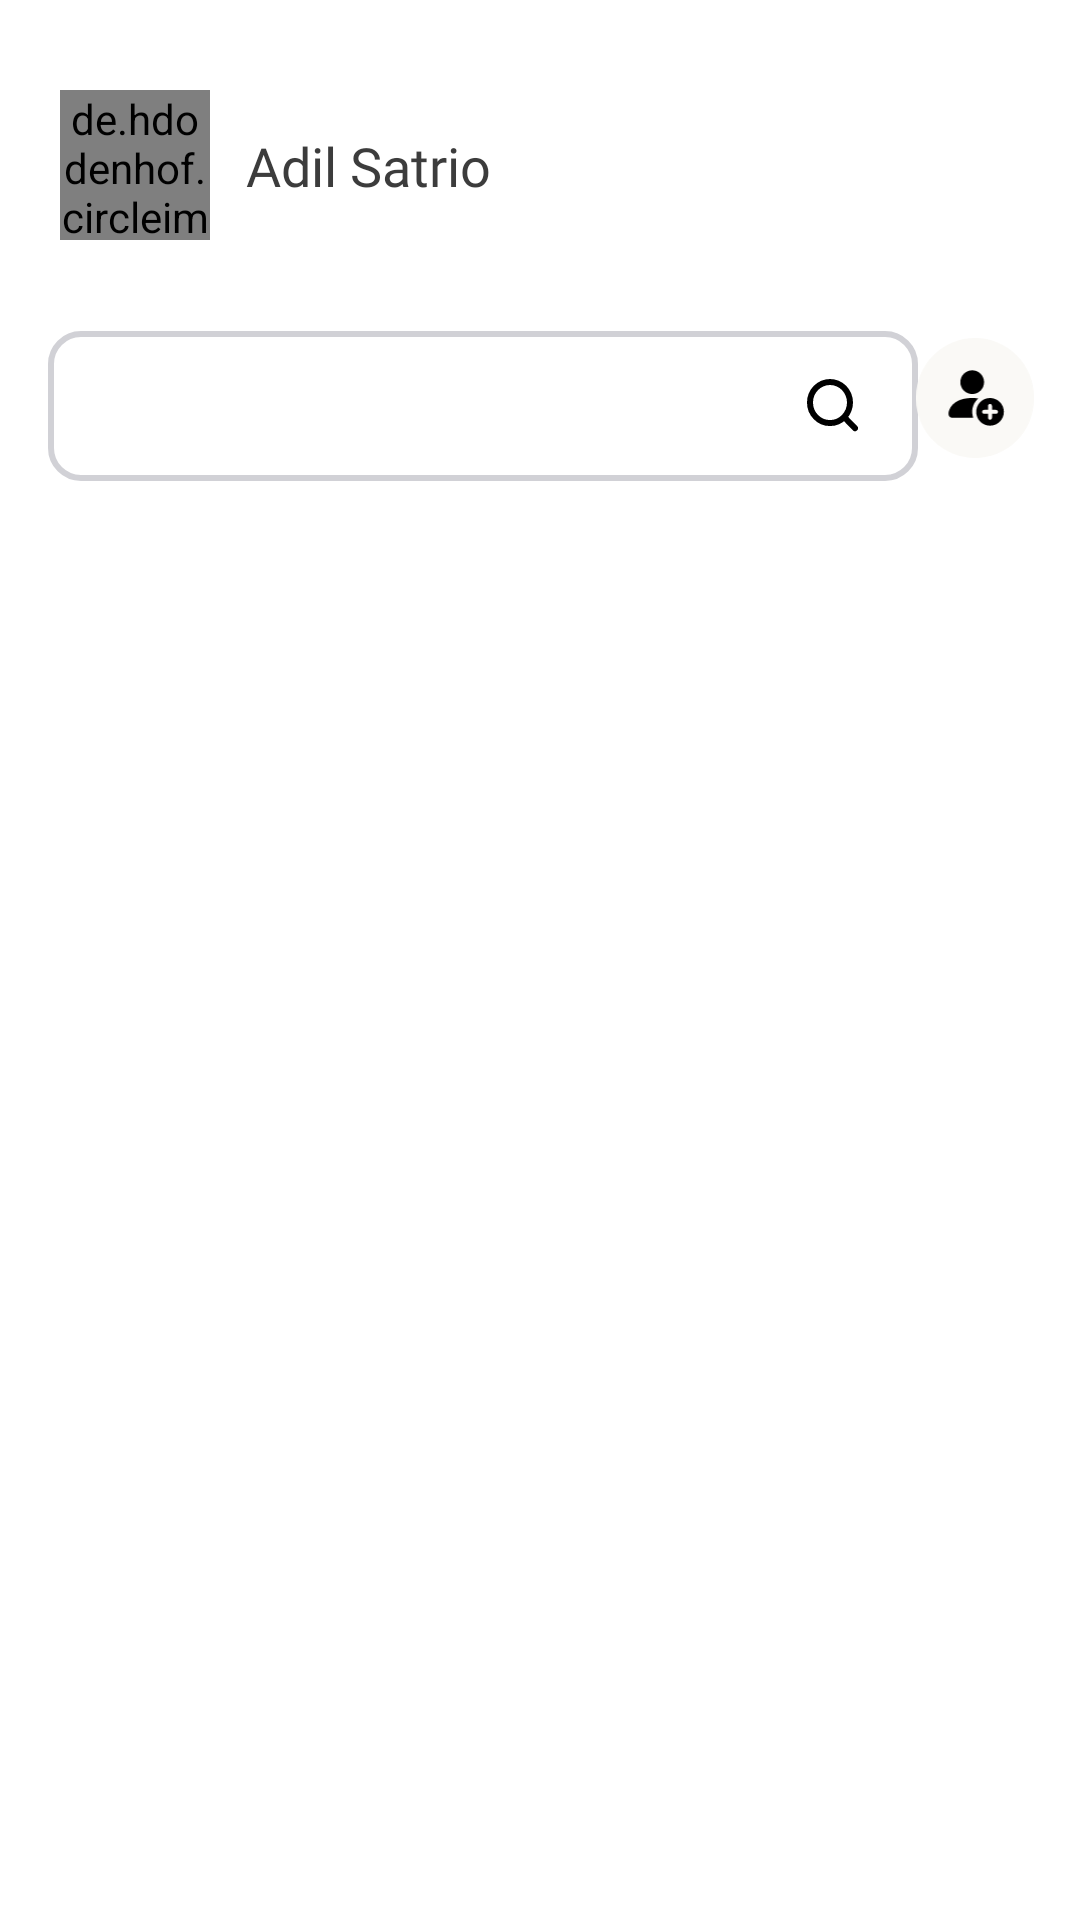

Named icons in this screenshot (1080 x 1920) and their bounding boxes, (x1, y1, x2, y2):
add friends: (915, 338, 1034, 458)
